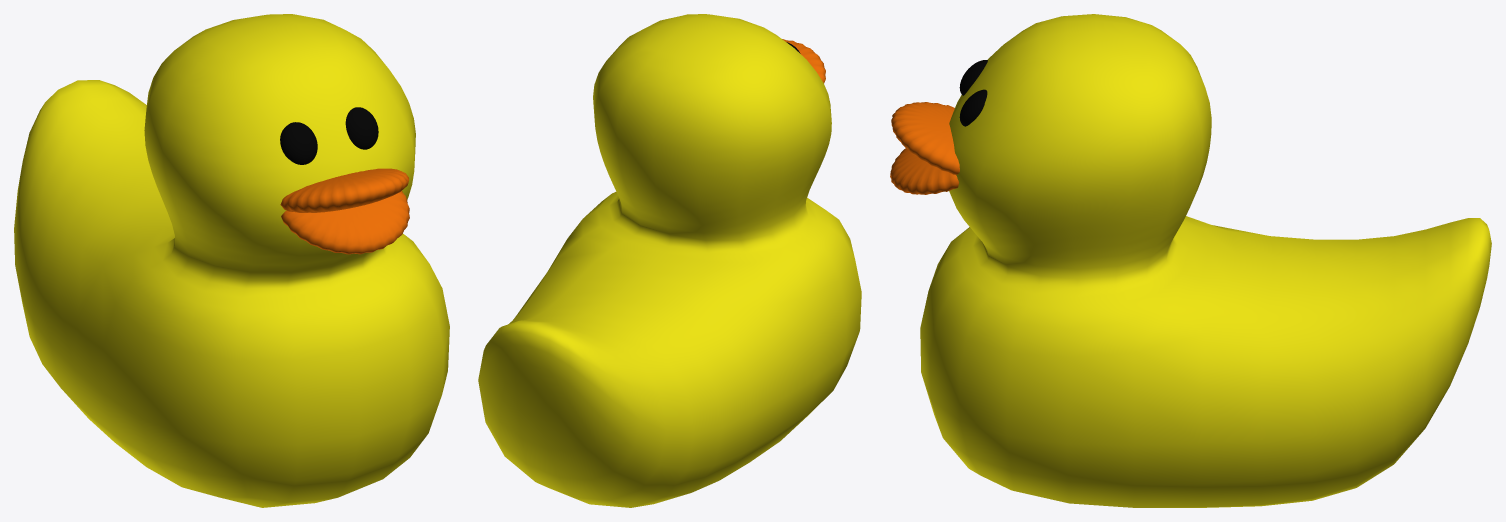
Rendered from duck.fbx.
The picture shows the model from 3 angles, left to right: view 1: azimuth 30°, elevation 25°; view 2: azimuth 150°, elevation 25°; view 3: azimuth 270°, elevation 25°; orthographic projection. The views are drawn at different scales.
Visible parts, largest first — view 1: Cube, Circle.001, Circle, Sphere; view 2: Cube, Circle; view 3: Cube, Circle, Circle.001, Sphere.
Part boxes in pixels (box(x1,y1,x2,y2)): Cube: box(14, 14, 449, 507); Circle.001: box(281, 191, 409, 254); Circle: box(280, 168, 408, 212); Sphere: box(280, 107, 378, 164); Cube: box(478, 14, 861, 507); Circle: box(782, 39, 825, 83); Cube: box(920, 14, 1491, 507); Circle: box(891, 102, 959, 174); Circle.001: box(890, 148, 958, 194); Sphere: box(959, 60, 987, 126).
Size of the model in its own units: 249 by 366 by 437.
